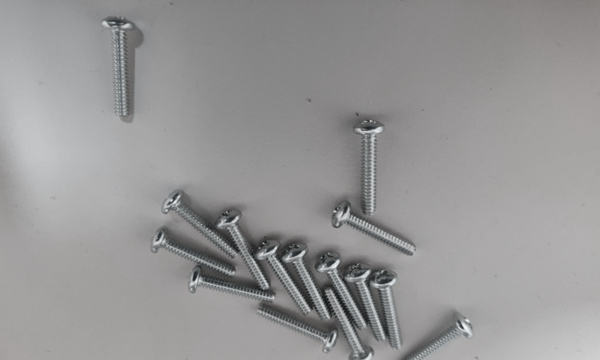longscrew: (161, 189, 238, 261), (152, 230, 239, 281), (333, 205, 417, 257), (253, 304, 334, 356), (316, 252, 368, 331), (217, 215, 271, 290), (256, 240, 310, 314), (284, 240, 332, 323), (185, 269, 277, 309), (355, 115, 389, 219), (324, 289, 372, 360), (102, 16, 134, 118), (397, 319, 475, 360), (347, 264, 385, 344), (374, 270, 410, 351)
